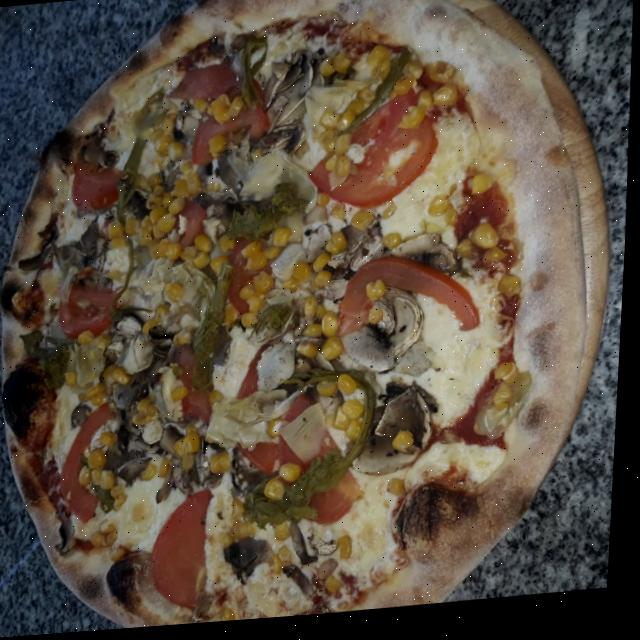mushrooms: (351, 387, 441, 485), (339, 288, 430, 382), (271, 60, 319, 127), (395, 238, 464, 281), (340, 221, 387, 277), (259, 336, 300, 398), (256, 124, 309, 162), (117, 334, 161, 376), (292, 520, 325, 569), (117, 371, 156, 411), (93, 410, 131, 451), (119, 406, 147, 460), (273, 244, 307, 287), (323, 254, 352, 303), (261, 66, 290, 111), (199, 447, 225, 493), (83, 142, 121, 173), (123, 190, 152, 228), (76, 221, 105, 258), (234, 450, 257, 496), (143, 407, 169, 447), (113, 312, 147, 341), (176, 462, 201, 499), (164, 426, 191, 460), (309, 227, 333, 265), (161, 464, 182, 504), (123, 459, 156, 484), (176, 114, 201, 143), (317, 538, 344, 560), (109, 340, 128, 364)
pizza: (0, 0, 633, 639)
tomatoes: (307, 88, 444, 220), (338, 253, 487, 349), (281, 391, 374, 533), (152, 487, 220, 623), (61, 401, 122, 524), (237, 344, 286, 482), (191, 84, 267, 168), (61, 267, 129, 340), (228, 236, 276, 318), (167, 57, 239, 109), (178, 343, 222, 427), (72, 155, 131, 215), (177, 199, 208, 253)
